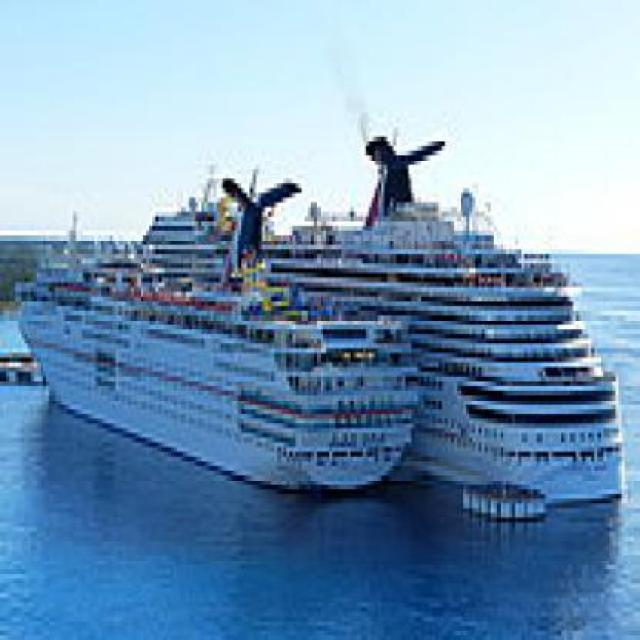cruise: (22, 166, 428, 504)
